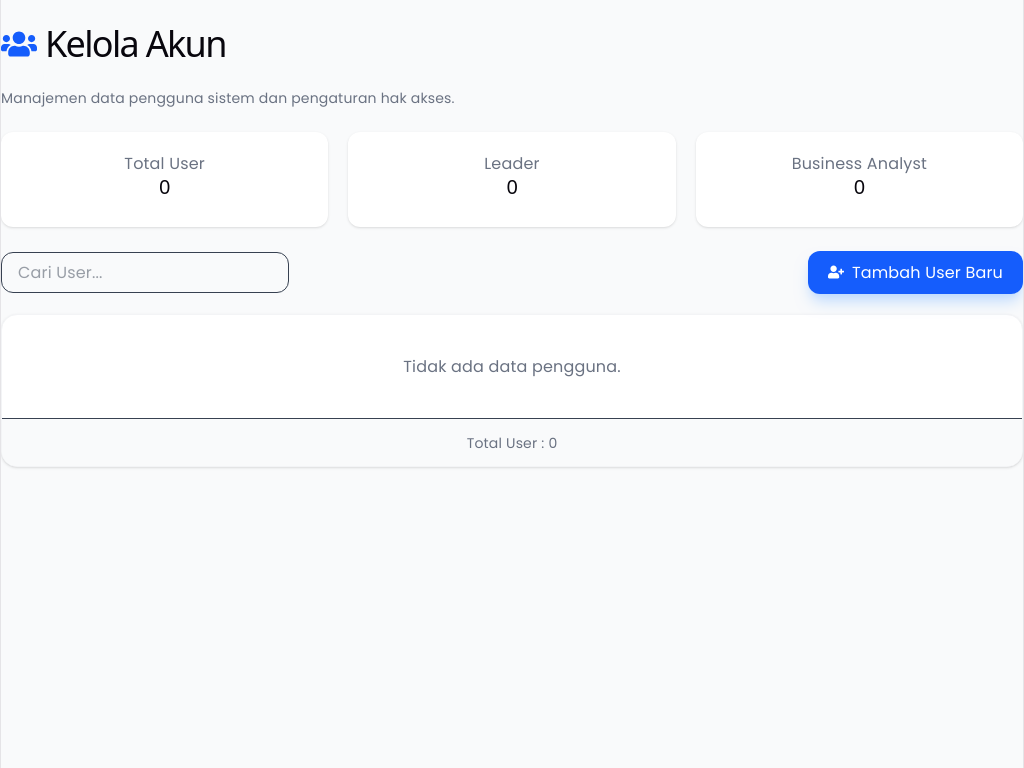
White Box Testing - Kelola Akun › WB-KA07 - Mengirim data pengguna baru ke API
Later steps or results of the test are not shown.
Click the button "Tambah User Baru". click: (915,272)
box: [808,251,1023,294]
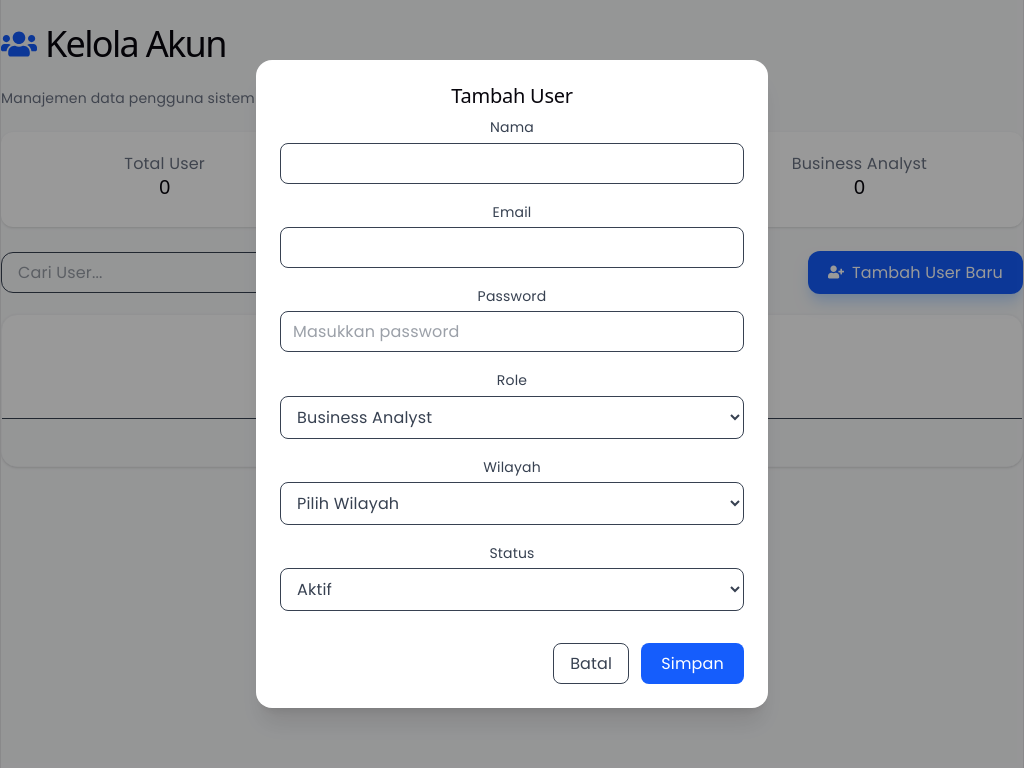
Expected: the heading "Tambah User" is shown, [451,82,573,109]
